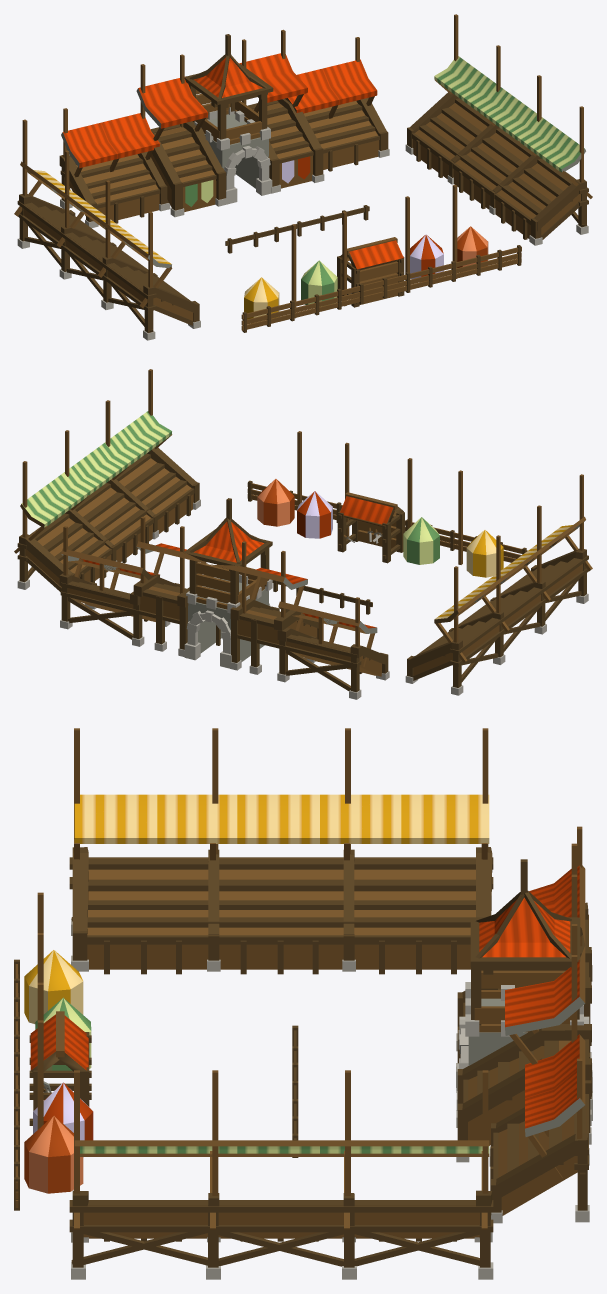
File: joustingarena.fbx
3 renders of one model, top to bottom at view 1: azimuth 30°, elevation 25°; view 2: azimuth 150°, elevation 25°; view 3: azimuth 270°, elevation 25°, orthographic. The views are drawn at different scales.
Visible parts, largest first — view 1: polySurface1466; view 2: polySurface1466; view 3: polySurface1466.
Part boxes in pixels (x1,y1,x2,y2): polySurface1466: [14, 14, 592, 340]; polySurface1466: [14, 369, 592, 699]; polySurface1466: [14, 728, 592, 1279].
Size of the model in its own units: 613 by 202 by 419.
Materials: 1 (1 with a texture image).
